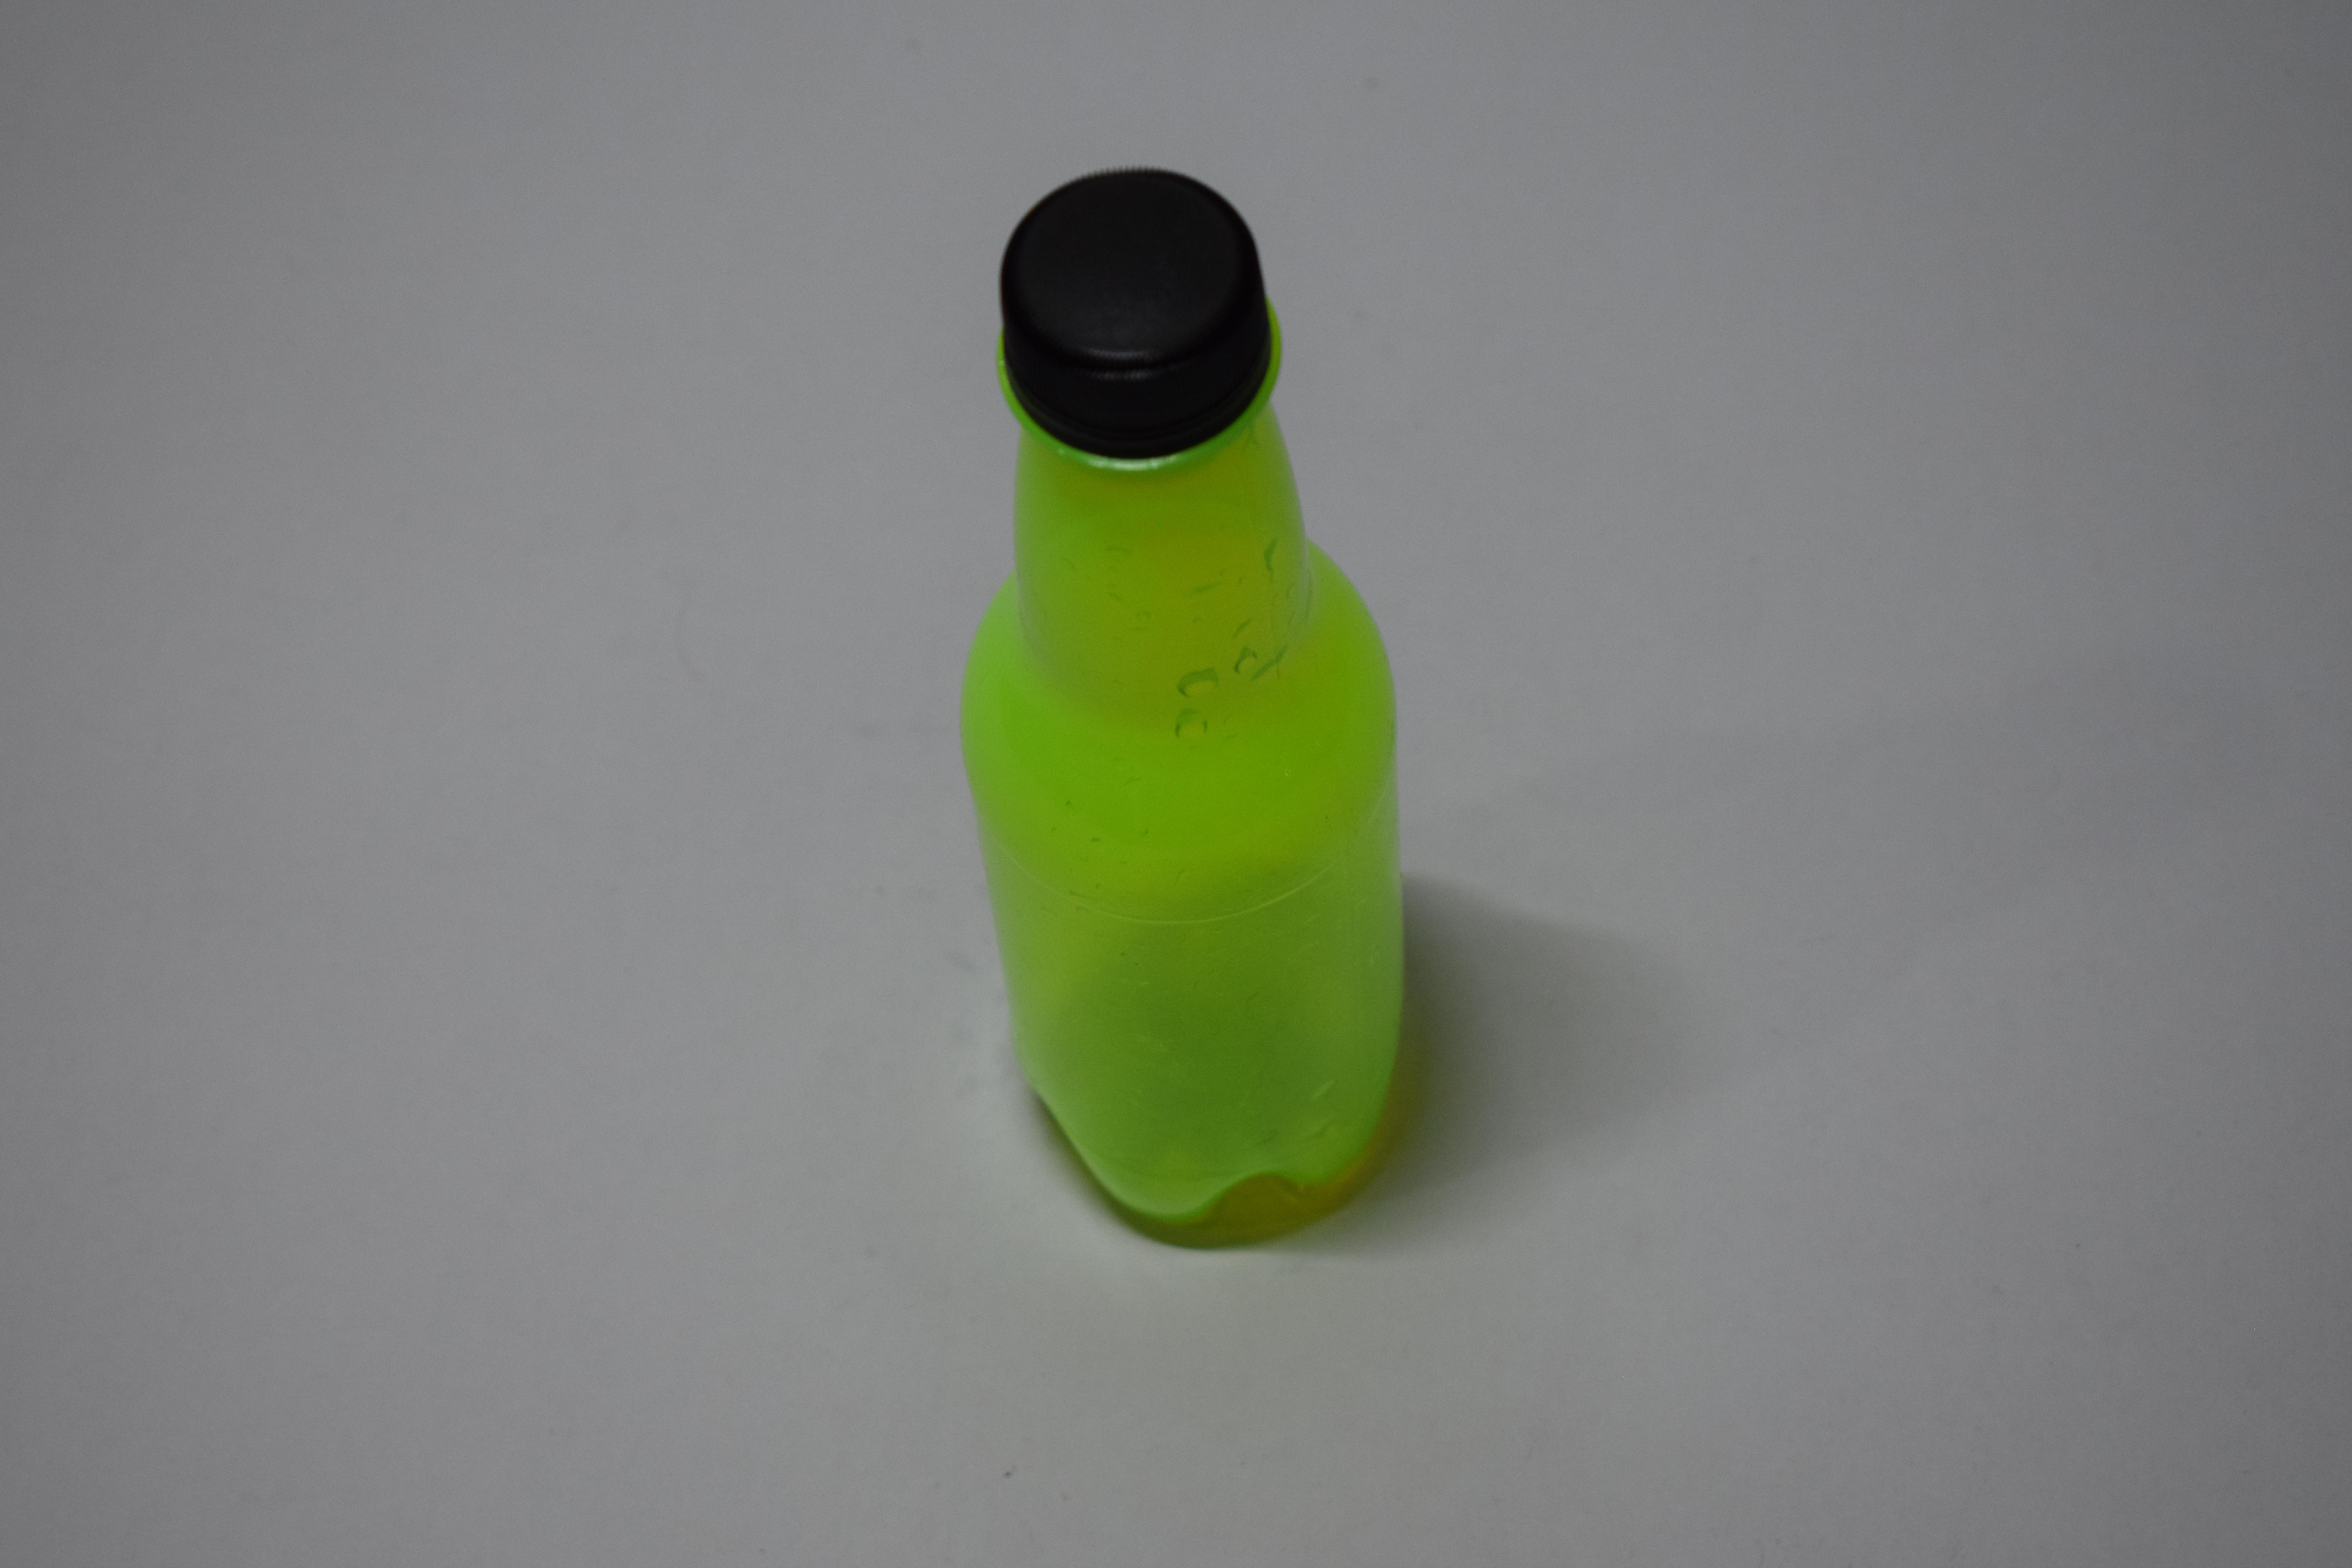bottle: (0, 149, 231, 1230)
